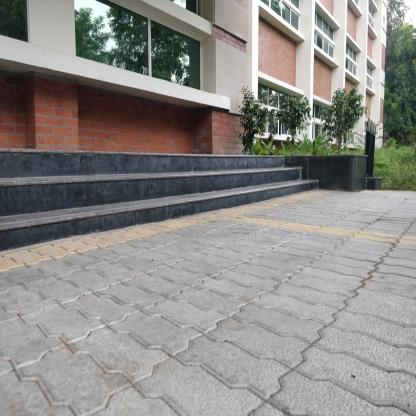stairs: (88, 159, 228, 242)
